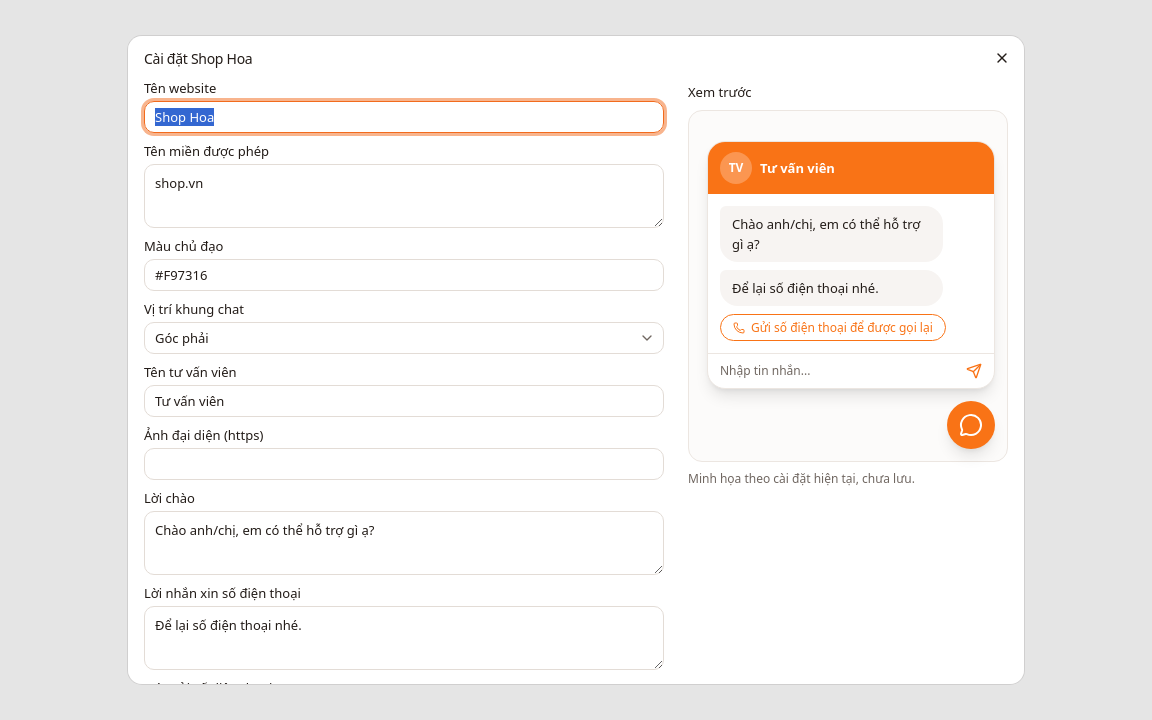
Test: WebsiteSettingsPanel › blocks an invalid value with an inline error
Replace the text in the field labelled "Màu chủ đạo" with "red" at (404, 275), box [144, 259, 664, 291]
(page scrolled)
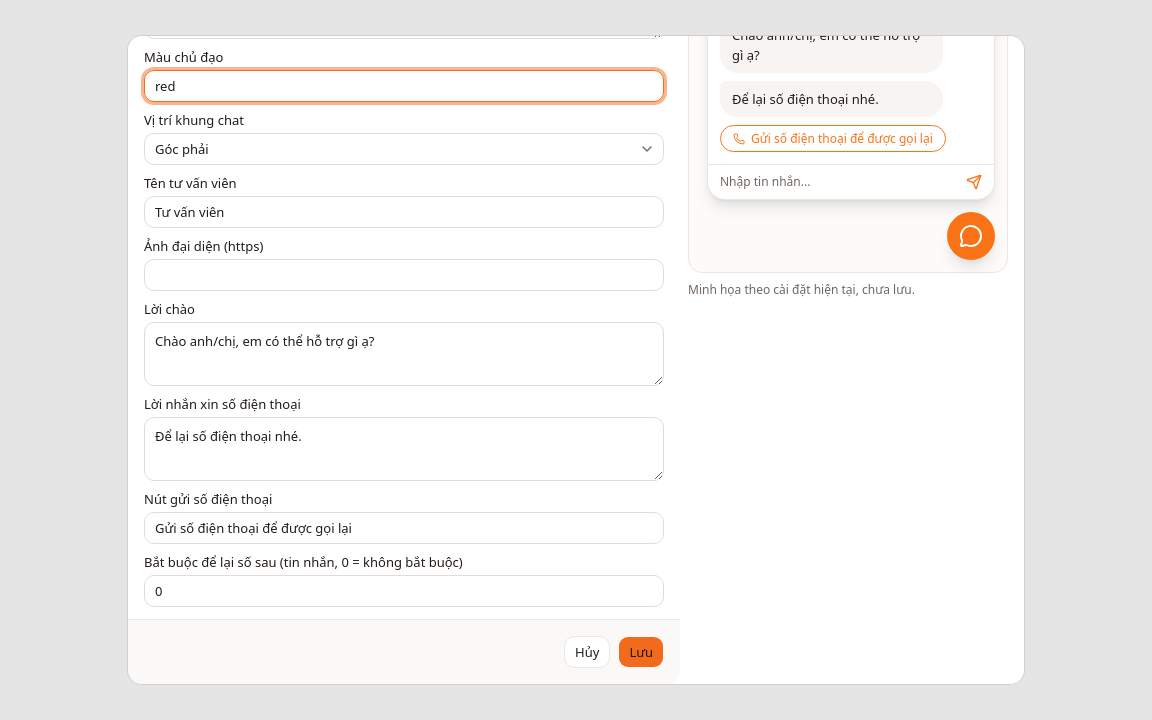
Click the button "Lưu" at (641, 652), box [618, 636, 664, 668]
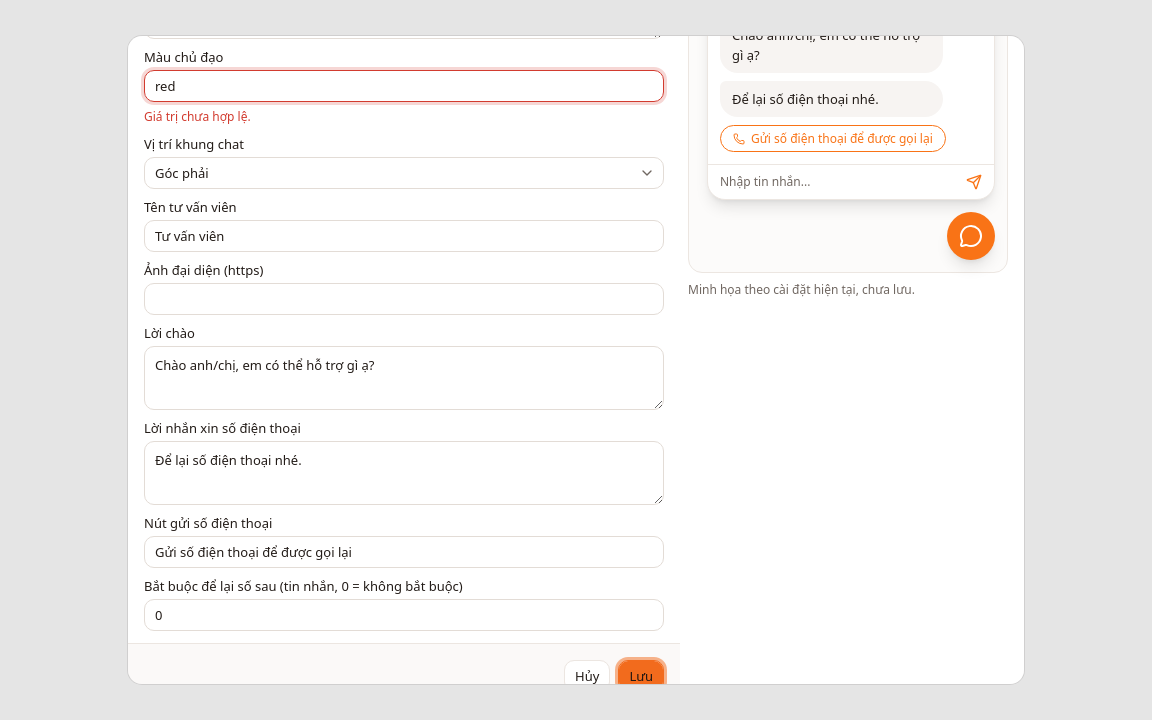
Expected: the text "Giá trị chưa hợp lệ." is shown, [144, 108, 251, 125]
